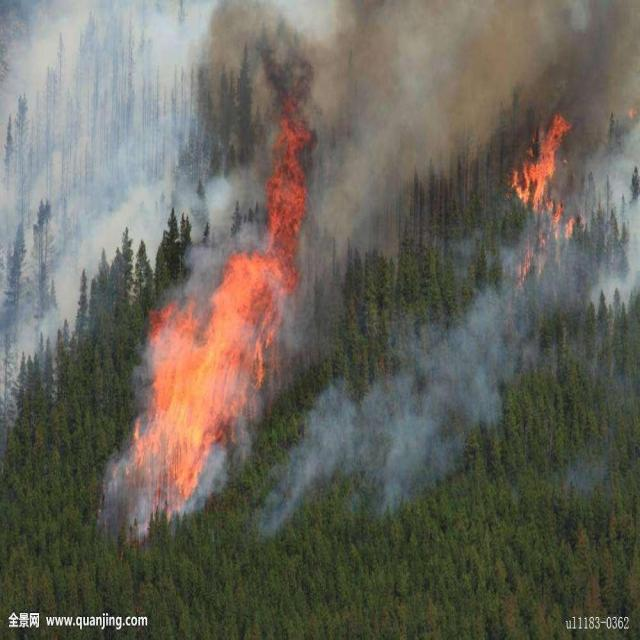fire: (89, 89, 323, 512), (485, 93, 586, 297)
